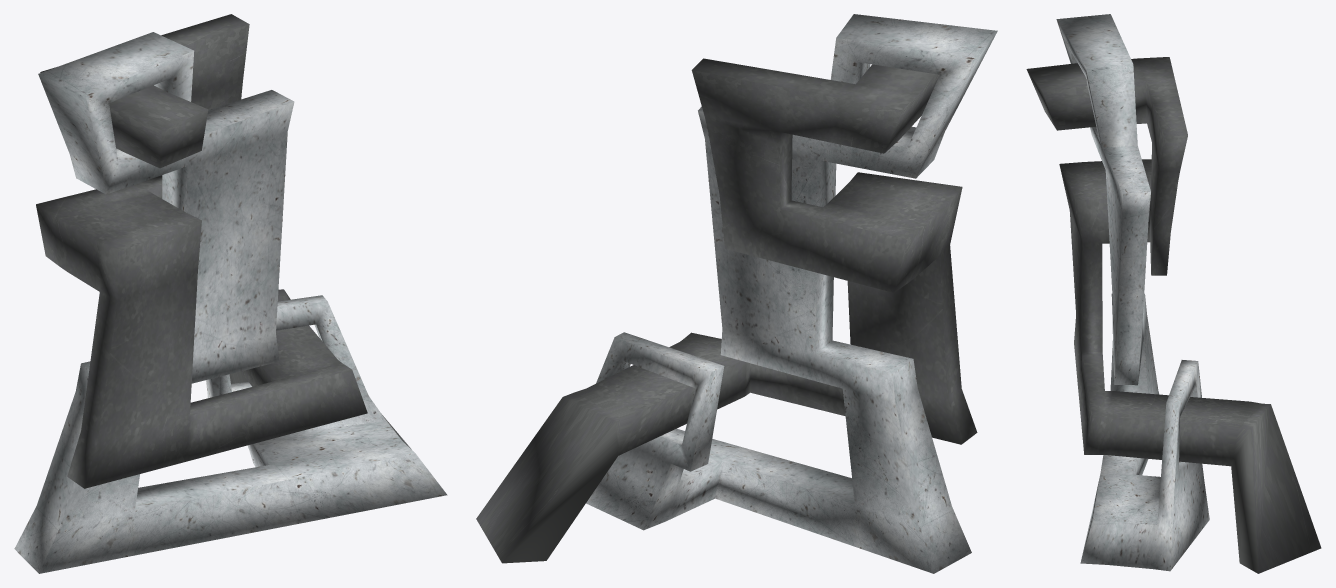
File: lobby sculpture.gltf
3 views of the same model, side by side, from view 1: azimuth 30°, elevation 25°; view 2: azimuth 150°, elevation 25°; view 3: azimuth 270°, elevation 25° (orthographic). The views are drawn at different scales.
Parts seen in each view (by area): view 1: Hybrid Geo-Org Sculpture; view 2: Hybrid Geo-Org Sculpture; view 3: Hybrid Geo-Org Sculpture.
Boxes of the visible parts, x1=… form: Hybrid Geo-Org Sculpture: x1=14, y1=14, x2=447, y2=573; Hybrid Geo-Org Sculpture: x1=476, y1=14, x2=997, y2=573; Hybrid Geo-Org Sculpture: x1=1026, y1=14, x2=1321, y2=573.
Bounding box in the file's own units: 3.65 × 4.2 × 2.82.
2 materials, 2 textured.
